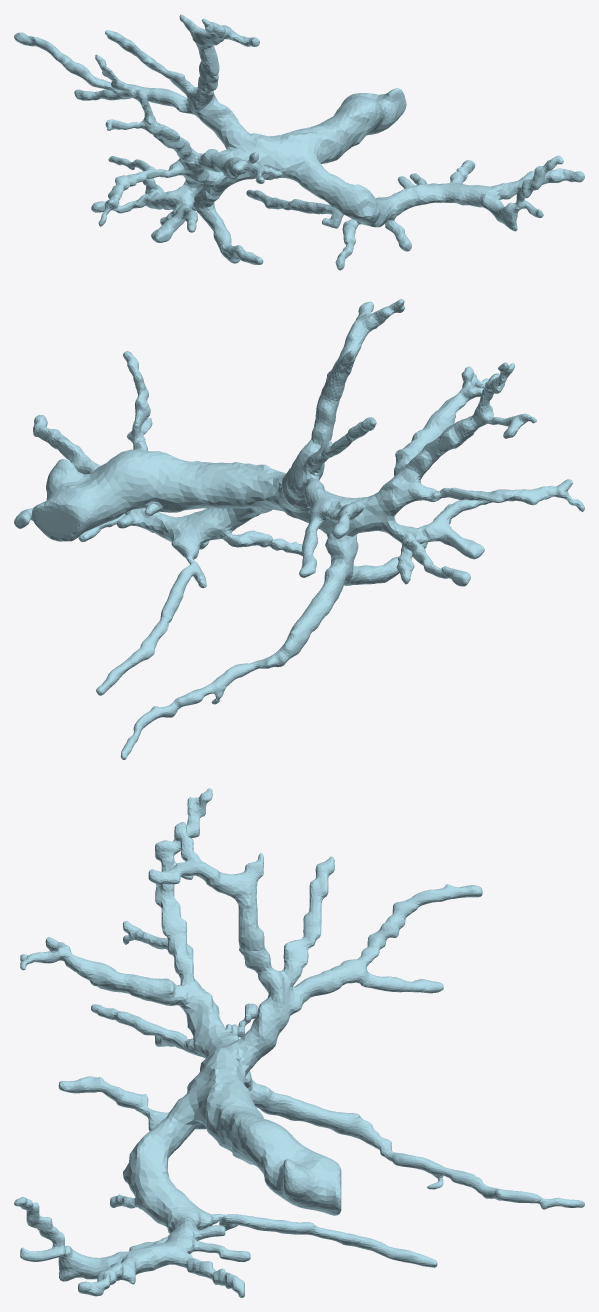
The model's file is portalvein.obj.
3 renders of one model, top to bottom at view 1: azimuth 30°, elevation 25°; view 2: azimuth 150°, elevation 25°; view 3: azimuth 270°, elevation 25°, orthographic. The views are drawn at different scales.
Visible parts, largest first — view 1: grp1; view 2: grp1; view 3: grp1.
Boxes of the visible parts, x1=… form: grp1: x1=14, y1=14, x2=584, y2=270; grp1: x1=14, y1=299, x2=584, y2=759; grp1: x1=14, y1=788, x2=584, y2=1297.
Size of the model in its own units: 167 by 98.14 by 142.
